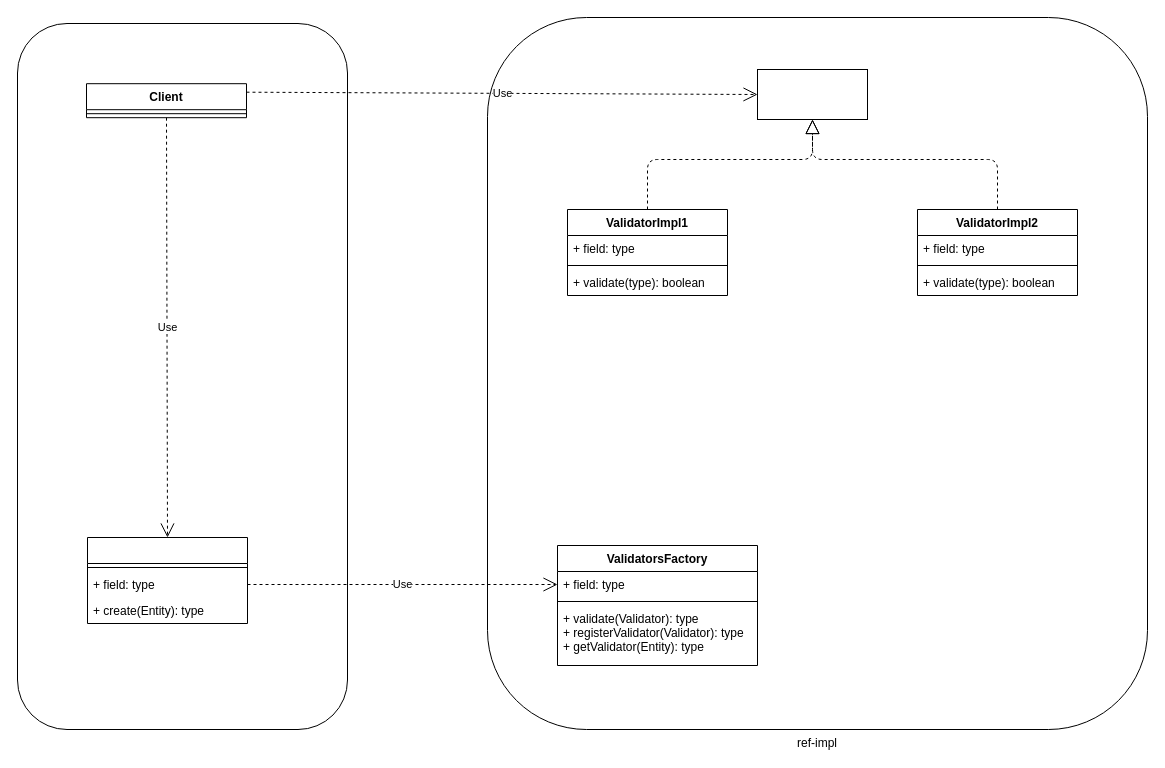
The diagram is 1165 pixels wide and 768 high, and some of its shapes have lost their labels. The box of each missing label's shape, as (x1, y1, x2, y2) in pixels:
mosip-platform: (16, 22, 348, 730)
ServiceAPI_Impl: (86, 536, 248, 624)
«interface» Validator: (756, 68, 868, 120)
